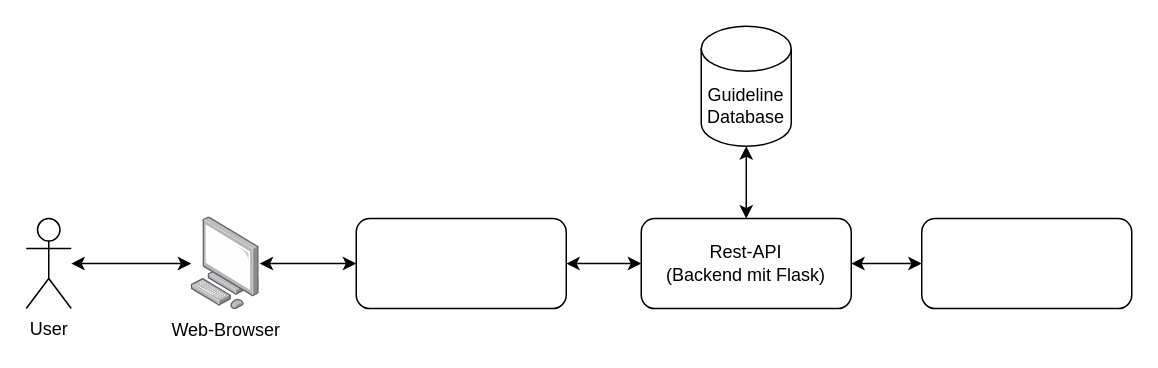
Image size: 1158x368. Some labels were removed from this diagram. Each missing label, with the box of its shape:
GPT4 (OpenAI API): (920, 217, 1132, 309)
Webserver (Frontend mit Angular): (355, 217, 566, 309)
